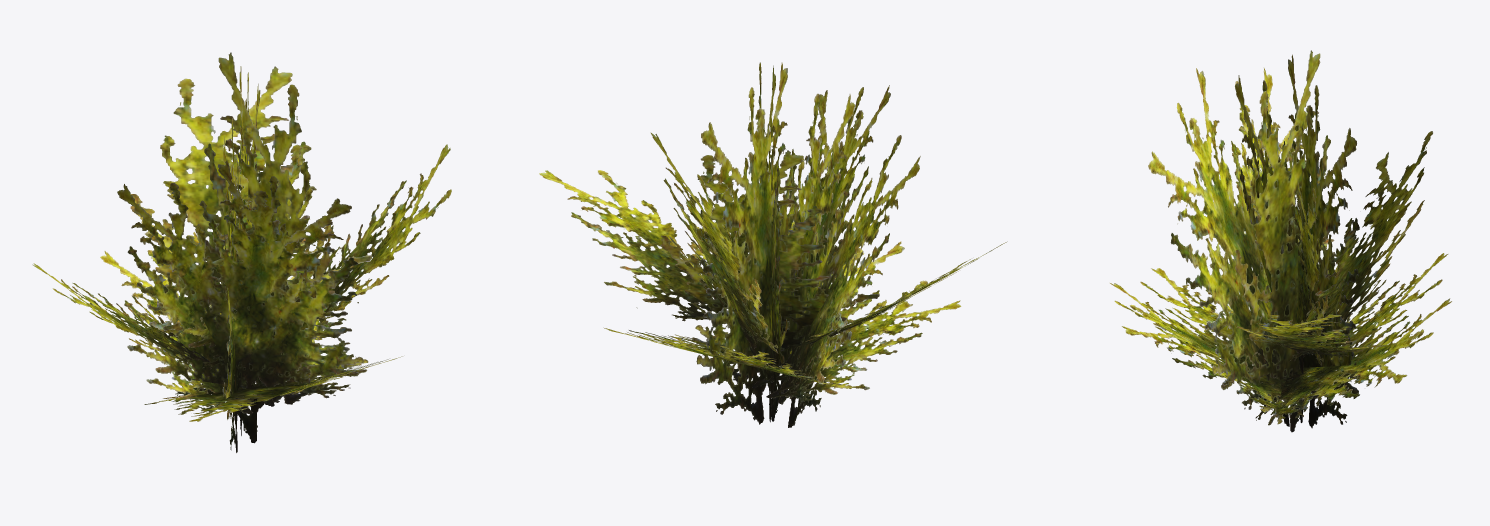
File: common_shrub_6m.DAE
3 views of the same model, side by side, from view 1: azimuth 30°, elevation 25°; view 2: azimuth 150°, elevation 25°; view 3: azimuth 270°, elevation 25° (orthographic). The views are drawn at different scales.
Parts seen in each view (by area): view 1: Plane01; view 2: Plane01; view 3: Plane01.
Boxes of the visible parts, x1,y1,x2,y2 form: Plane01: (32,52,451,452); Plane01: (539,62,1007,427); Plane01: (1110,50,1451,432).
Size of the model in its own units: 5.19 by 4.63 by 3.69.
